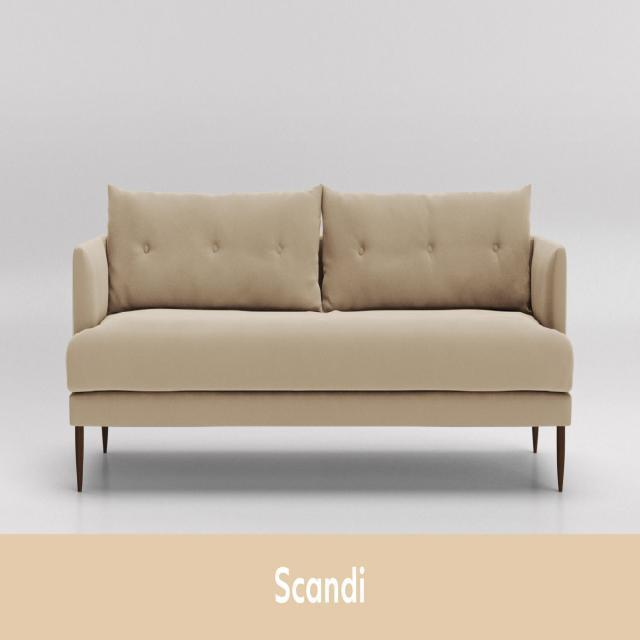sofa: (65, 181, 574, 495)
